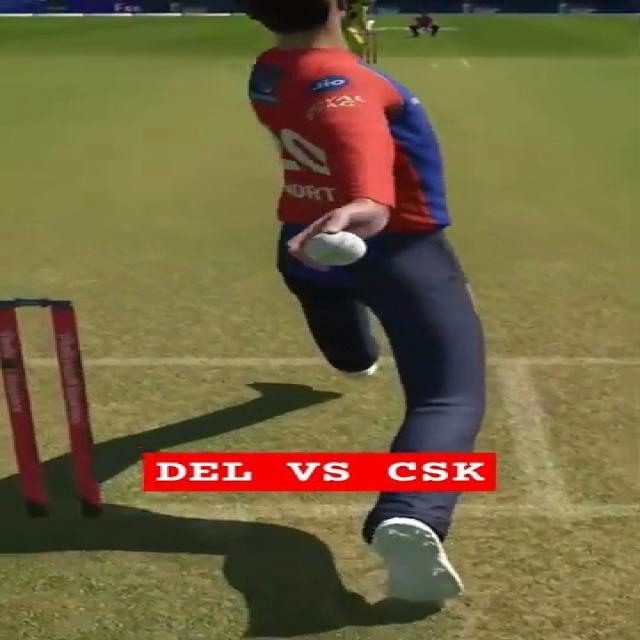ball: (302, 231, 368, 267)
